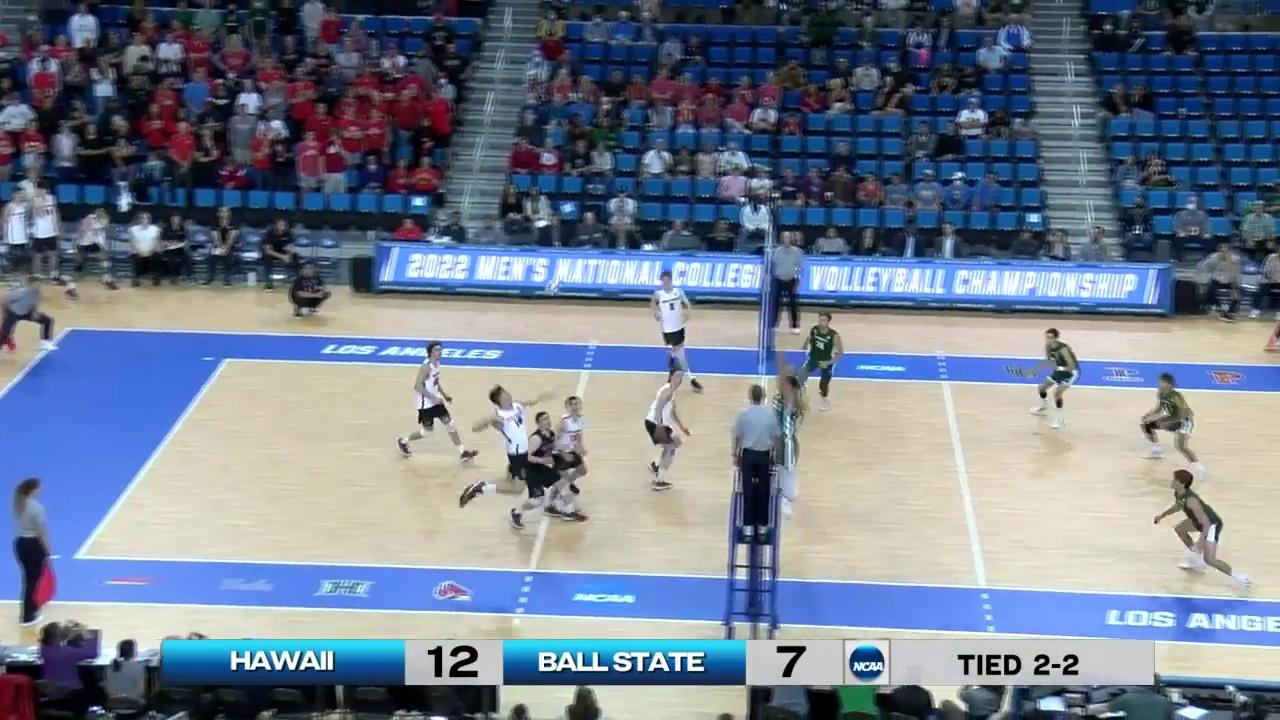player: (1149, 471, 1246, 589), (457, 383, 534, 504), (401, 344, 476, 458), (544, 392, 594, 521), (1140, 372, 1203, 471), (512, 410, 564, 529), (641, 369, 692, 490), (651, 270, 700, 390), (1030, 328, 1079, 430), (795, 310, 841, 410), (771, 379, 804, 513)
refree: (725, 382, 786, 532), (7, 482, 55, 627), (0, 271, 55, 359), (771, 229, 803, 333)
